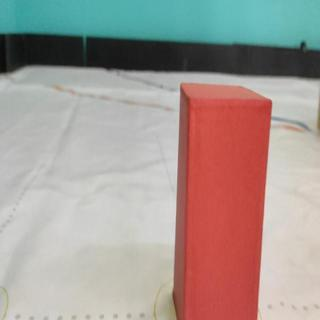redbox: (169, 82, 272, 320)
